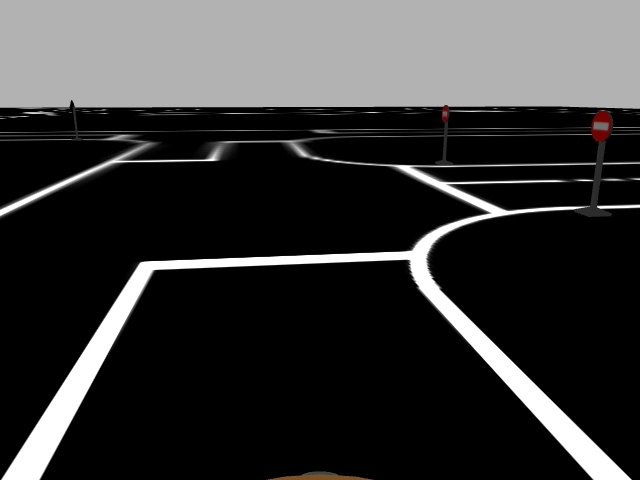prohibited: (591, 109, 612, 143), (440, 103, 450, 125)
